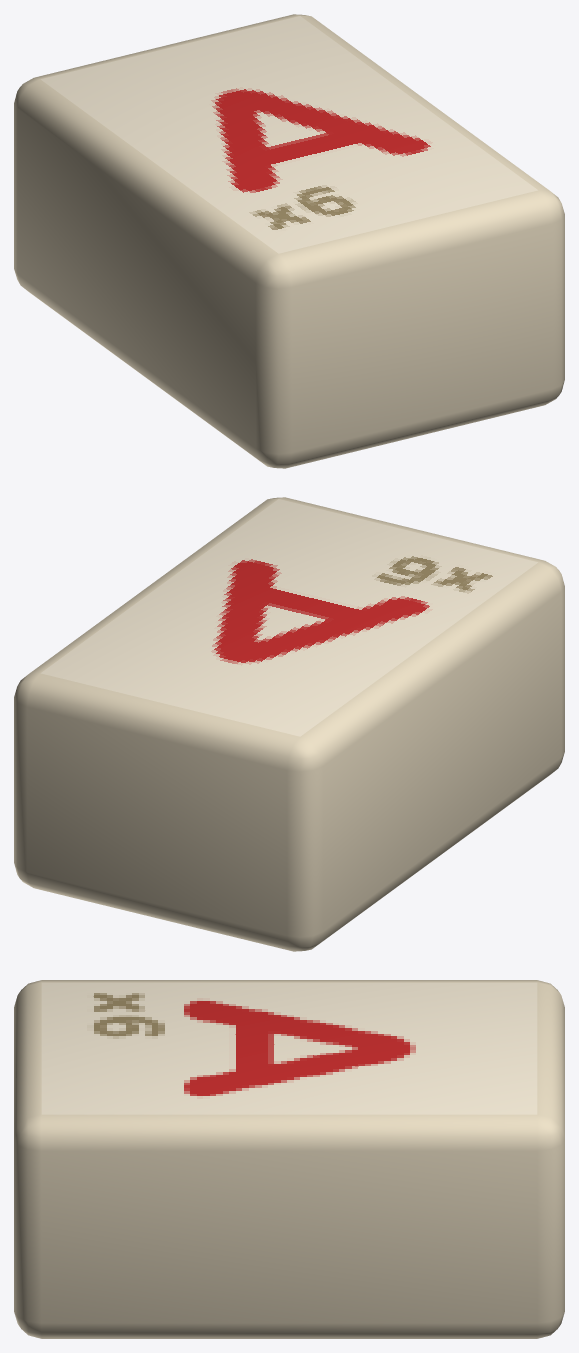
File: models.glb
3 renders of one model, top to bottom at view 1: azimuth 30°, elevation 25°; view 2: azimuth 150°, elevation 25°; view 3: azimuth 270°, elevation 25°, orthographic. The views are drawn at different scales.
Visible parts, largest first — view 1: tile; view 2: tile; view 3: tile.
Part boxes in pixels (left/top/right/bottom): tile: left=14, top=14, right=564, bottom=468; tile: left=14, top=497, right=564, bottom=951; tile: left=14, top=980, right=564, bottom=1338.
Size of the model in its own units: 6 by 4 by 9.
Materials: 1 (1 with a texture image).
